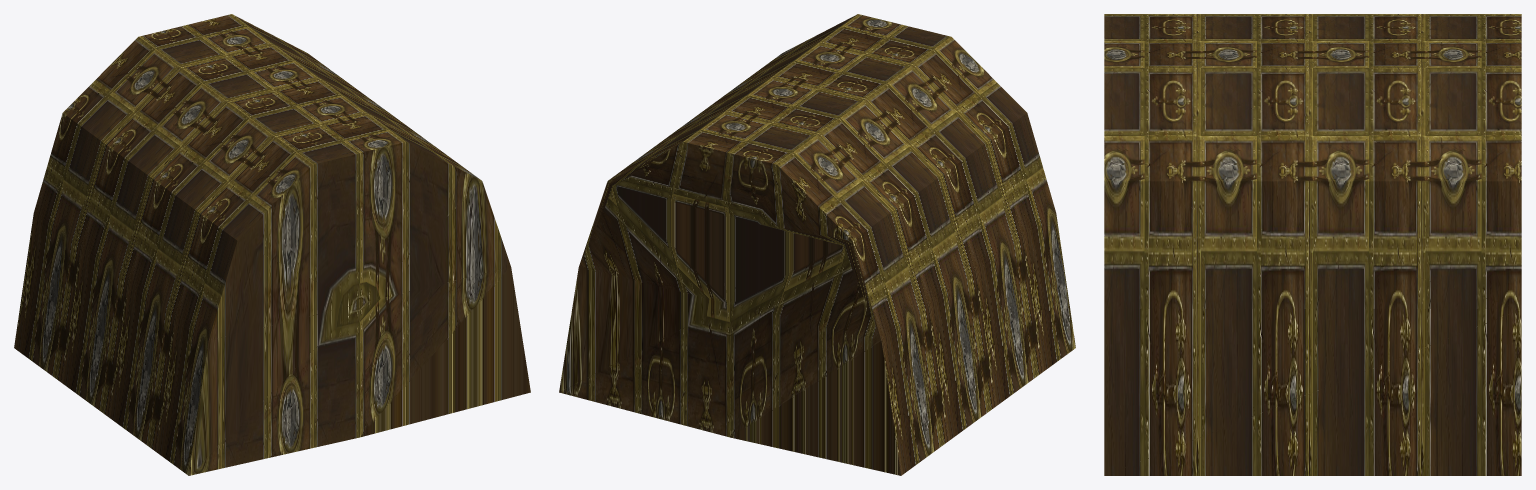
Rendered from chest.fbx.
3 views of the same model, side by side, from view 1: azimuth 30°, elevation 25°; view 2: azimuth 150°, elevation 25°; view 3: azimuth 270°, elevation 25° (orthographic). The views are drawn at different scales.
Visible parts, largest first — view 1: pCylinder39; view 2: pCylinder39; view 3: pCylinder39.
Boxes of the visible parts, left/top/right/bottom form: pCylinder39: left=14, top=14, right=530, bottom=475; pCylinder39: left=559, top=14, right=1075, bottom=475; pCylinder39: left=1104, top=14, right=1521, bottom=475.
Size of the model in its own units: 156 by 124 by 138.
